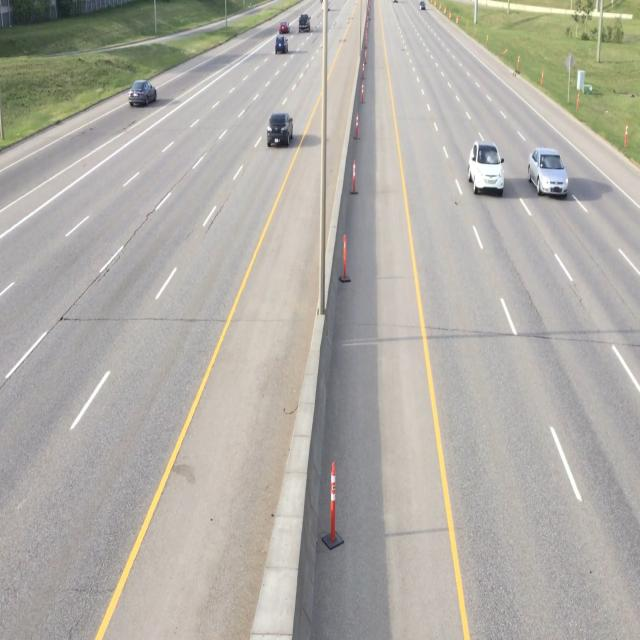Car: (526, 144, 568, 197), (466, 139, 503, 198), (265, 109, 294, 151), (126, 79, 158, 110), (274, 32, 289, 57)
